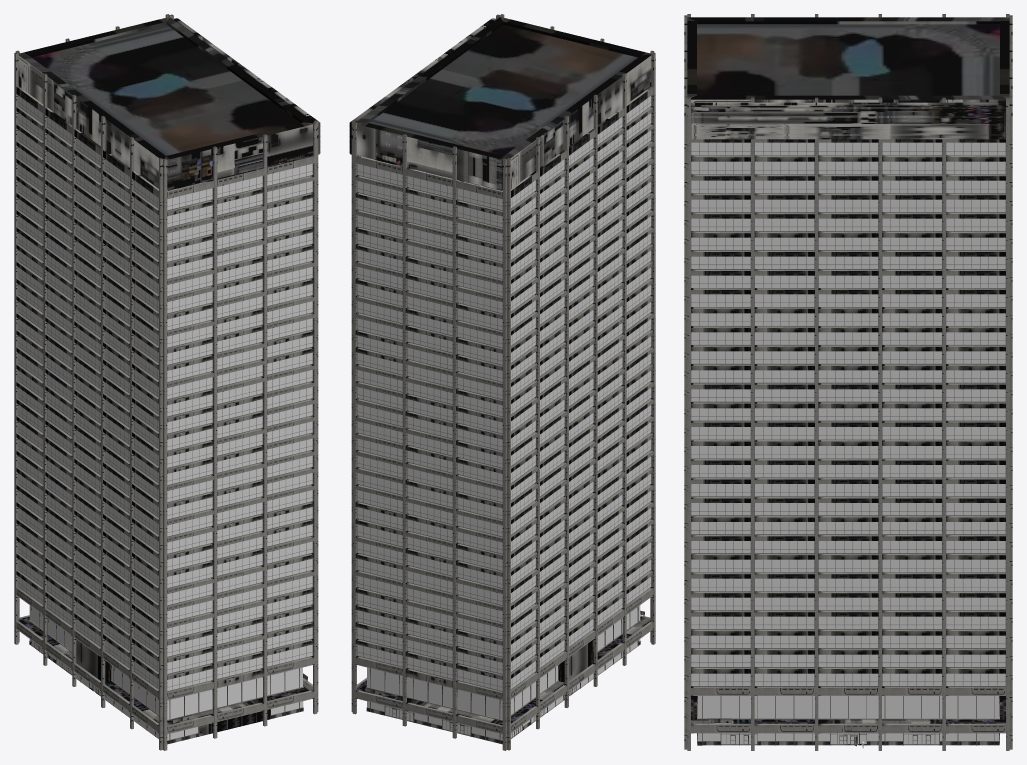
The model's file is grid_tower.glb.
3 renders of one model, left to right at view 1: azimuth 30°, elevation 25°; view 2: azimuth 150°, elevation 25°; view 3: azimuth 270°, elevation 25°, orthographic. The views are drawn at different scales.
Visible parts, largest first — view 1: grid_tower; view 2: grid_tower; view 3: grid_tower.
Part boxes in pixels (x1,y1,x2,y2): grid_tower: (14, 14, 320, 750); grid_tower: (349, 14, 655, 750); grid_tower: (684, 14, 1012, 750).
Bounding box in the file's own units: 60.83 × 212 × 96.85.
8 materials, 7 textured.
